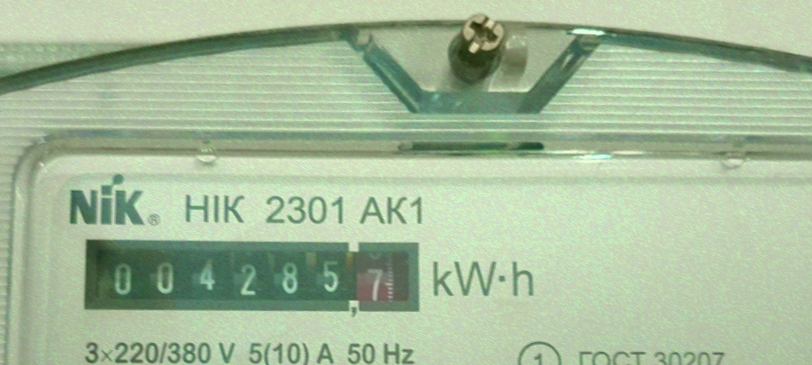0: (153, 258, 176, 296), (111, 260, 133, 296)
2: (237, 261, 257, 297)
4: (198, 256, 216, 291)
5: (319, 257, 340, 293)
7: (363, 265, 384, 302)
8: (278, 259, 300, 296)
screen: (68, 222, 435, 331)
